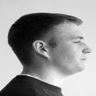ear: (24, 35, 56, 62)
